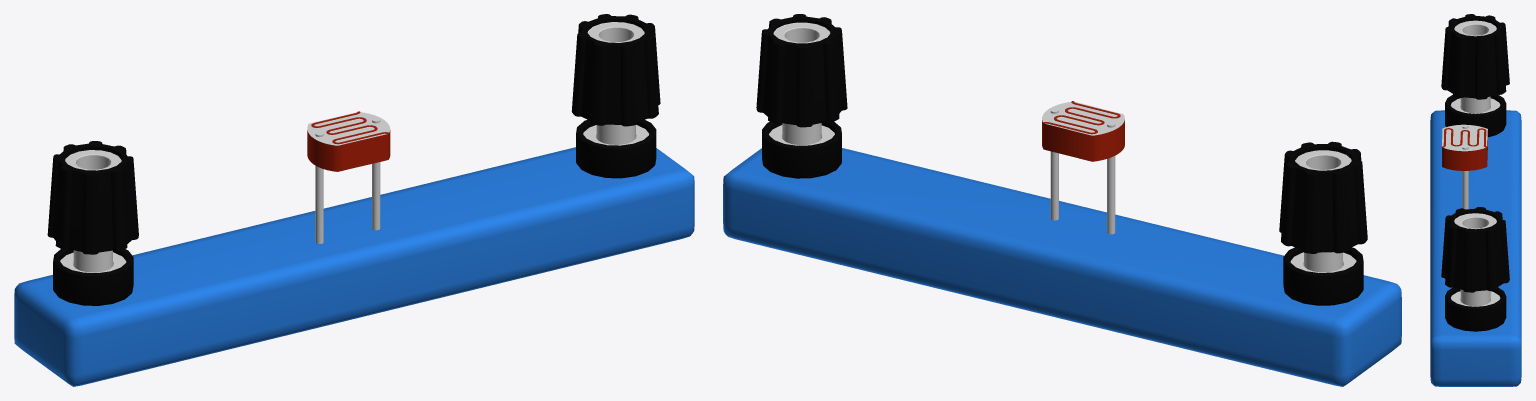
File: LDR.fbx
3 renders of one model, left to right at view 1: azimuth 30°, elevation 25°; view 2: azimuth 150°, elevation 25°; view 3: azimuth 270°, elevation 25°, orthographic. The views are drawn at different scales.
Parts seen in each view (by area): view 1: Resistor.006, Cylinder.019, Cylinder.018, Curve.011, Curve.012; view 2: Resistor.006, Cylinder.019, Cylinder.018, Curve.011, Curve.012; view 3: Resistor.006, Cylinder.019, Cylinder.018, Curve.011, Curve.012.
Boxes of the visible parts, x1=… form: Resistor.006: x1=14, y1=147, x2=694, y2=386; Cylinder.019: x1=47, y1=14, x2=660, y2=272; Cylinder.018: x1=53, y1=119, x2=656, y2=305; Curve.011: x1=307, y1=112, x2=390, y2=243; Curve.012: x1=311, y1=111, x2=389, y2=144; Resistor.006: x1=723, y1=148, x2=1401, y2=386; Cylinder.019: x1=756, y1=14, x2=1367, y2=272; Cylinder.018: x1=762, y1=122, x2=1363, y2=305; Curve.011: x1=1042, y1=102, x2=1124, y2=234; Curve.012: x1=1043, y1=101, x2=1120, y2=134; Resistor.006: x1=1430, y1=110, x2=1521, y2=386; Cylinder.019: x1=1441, y1=14, x2=1509, y2=306; Cylinder.018: x1=1445, y1=94, x2=1506, y2=331; Curve.011: x1=1442, y1=124, x2=1487, y2=209; Curve.012: x1=1441, y1=128, x2=1487, y2=147.
Bounding box in the file's own units: 236 × 71.45 × 39.32.
